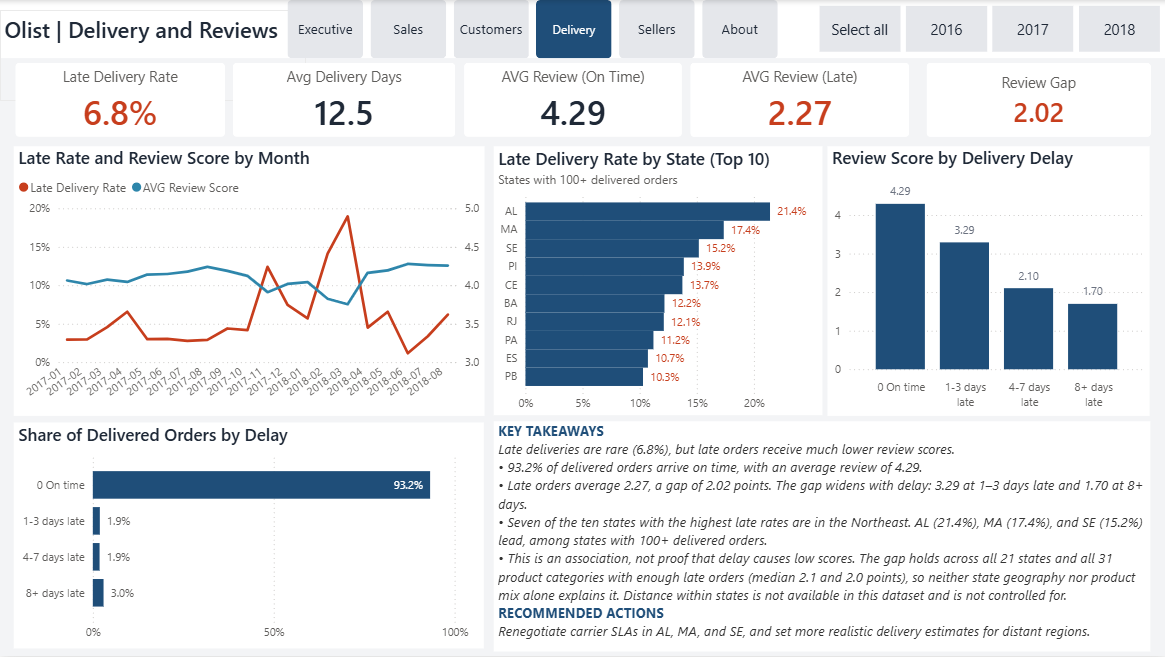

What the dashboard file says about the page in this screenshot:
{"tool":"powerbi","page":{"name":"Delivery","canvas":[1280,720],"ordinal":3},"visuals":[{"type":"shape","box":[0,0,1280.3,63.8],"z":0},{"type":"textbox","box":[0,10.4,336,100.6],"z":1000},{"type":"advancedSlicerVisual","fields":{"Values":["gold dim_date.year"]},"box":[892.6,0,387.4,63.8],"z":2000},{"type":"pageNavigator","box":[315.6,0,541.1,64.4],"z":3000},{"type":"cardVisual","fields":{"Data":["_Measures.Late Delivery Rate"]},"box":[0,52.6,264.2,115],"z":4000},{"type":"cardVisual","fields":{"Data":["_Measures.Avg Delivery Days"]},"box":[239.3,52.6,278.5,115],"z":5000},{"type":"cardVisual","fields":{"Data":["_Measures.AVG Review (On Time)"]},"box":[493,52.6,273.3,115],"z":6000},{"type":"cardVisual","fields":{"Data":["_Measures.AVG Review (Late)"]},"box":[741.5,52.3,274.6,115],"z":7000},{"type":"cardVisual","fields":{"Data":["_Measures.Review Gap"]},"box":[1000,52.2,280,115],"z":8000},{"type":"lineChart","title":"Late Rate and Review Score by Month","fields":{"Category":["gold dim_date.year_month"],"Y":["_Measures.Late Delivery Rate"],"Y2":["_Measures.AVG Review Score"]},"box":[14.8,159.9,516.6,296],"z":9000},{"type":"clusteredBarChart","title":"Late Delivery Rate by State (Top 10)","fields":{"Y":["_Measures.Late Delivery Rate"],"Category":["gold dim_customer.state"]},"box":[541.7,159.9,350.8,296],"z":10000},{"type":"clusteredColumnChart","title":"Review Score by Delivery Delay","fields":{"Category":["gold fact_orders.Delay Bucket"],"Y":["_Measures.AVG Review Score"]},"box":[908.8,159.9,353.7,296],"z":11000},{"type":"clusteredBarChart","title":"Share of Delivered Orders by Delay","fields":{"Category":["gold fact_orders.Delay Bucket"],"Y":["_Measures.Delivered Orders %"]},"box":[14.7,463.2,489.1,245.5],"z":12000},{"type":"textbox","box":[512.7,462,749.9,245.2],"z":13000}]}

Visuals, with their boxes in screenshot pixels (x1, y1, x2, y2), scaled from the page's 1280x720 canvas onto the 1165x657 screenshot:
shape: [x1=0, y1=0, x2=1164, y2=58]
textbox: [x1=0, y1=9, x2=306, y2=101]
advancedSlicerVisual - gold dim_date.year: [x1=812, y1=0, x2=1164, y2=58]
pageNavigator: [x1=287, y1=0, x2=780, y2=59]
cardVisual - _Measures.Late Delivery Rate: [x1=0, y1=48, x2=240, y2=153]
cardVisual - _Measures.Avg Delivery Days: [x1=218, y1=48, x2=471, y2=153]
cardVisual - _Measures.AVG Review (On Time): [x1=449, y1=48, x2=697, y2=153]
cardVisual - _Measures.AVG Review (Late): [x1=675, y1=48, x2=925, y2=153]
cardVisual - _Measures.Review Gap: [x1=910, y1=48, x2=1164, y2=153]
"Late Rate and Review Score by Month" lineChart: [x1=13, y1=146, x2=484, y2=416]
"Late Delivery Rate by State (Top 10)" clusteredBarChart: [x1=493, y1=146, x2=812, y2=416]
"Review Score by Delivery Delay" clusteredColumnChart: [x1=827, y1=146, x2=1149, y2=416]
"Share of Delivered Orders by Delay" clusteredBarChart: [x1=13, y1=423, x2=459, y2=647]
textbox: [x1=467, y1=422, x2=1149, y2=645]
